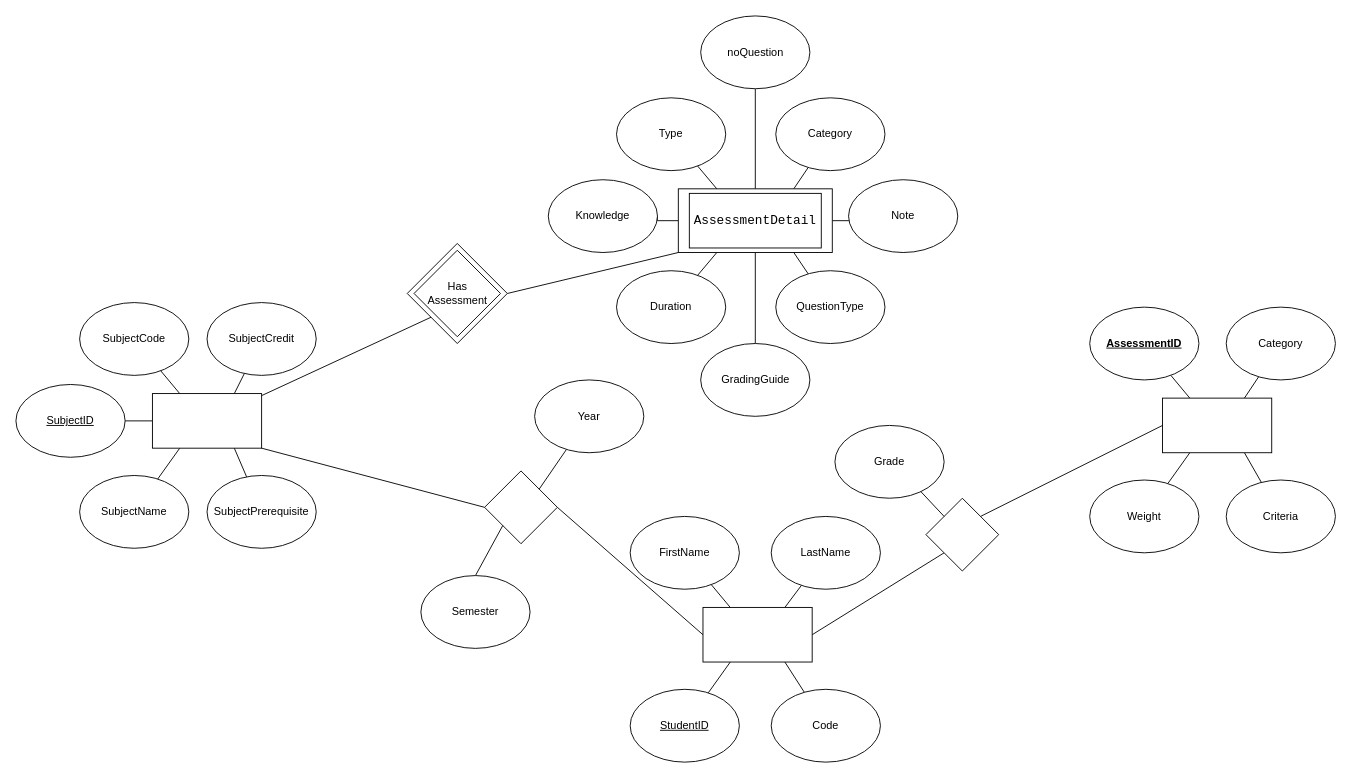
The diagram is 1351 pixels wide and 778 high, and some of its shapes have lost their labels. The centre of each missing label's shape, as x and y in pixels:
"Assessment" belongs at point 1217,425.
"Enroll" belongs at point 520,507.
"Grade of" belongs at point 962,534.
"Student" belongs at point 757,634.
"Subject" belongs at point 207,420.
